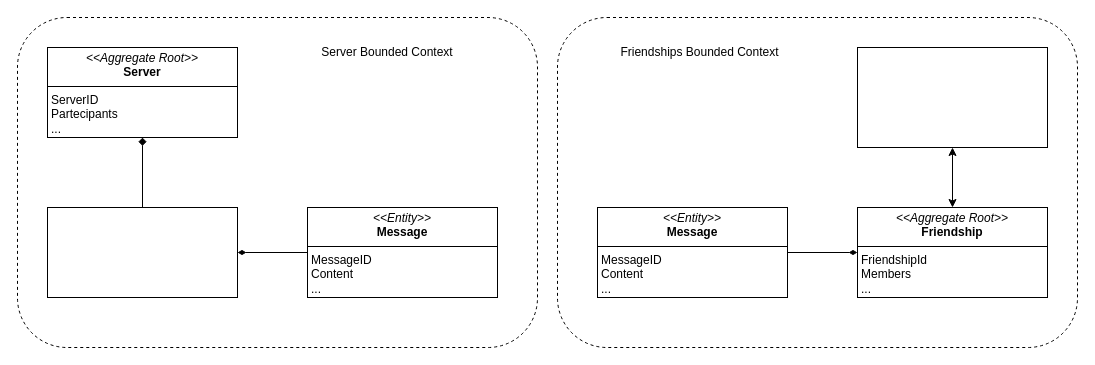
Some shapes in this 1095 by 365 pixel diagram are drawn without their labels. The centre of each missing label's shape, as x and y in pixels:
<<Aggregate Root>> FriendshipRequest FriendshipRequestId From To: (952,97)
<<Entity>> Channel ChannelID ChannelType ...: (142,252)
